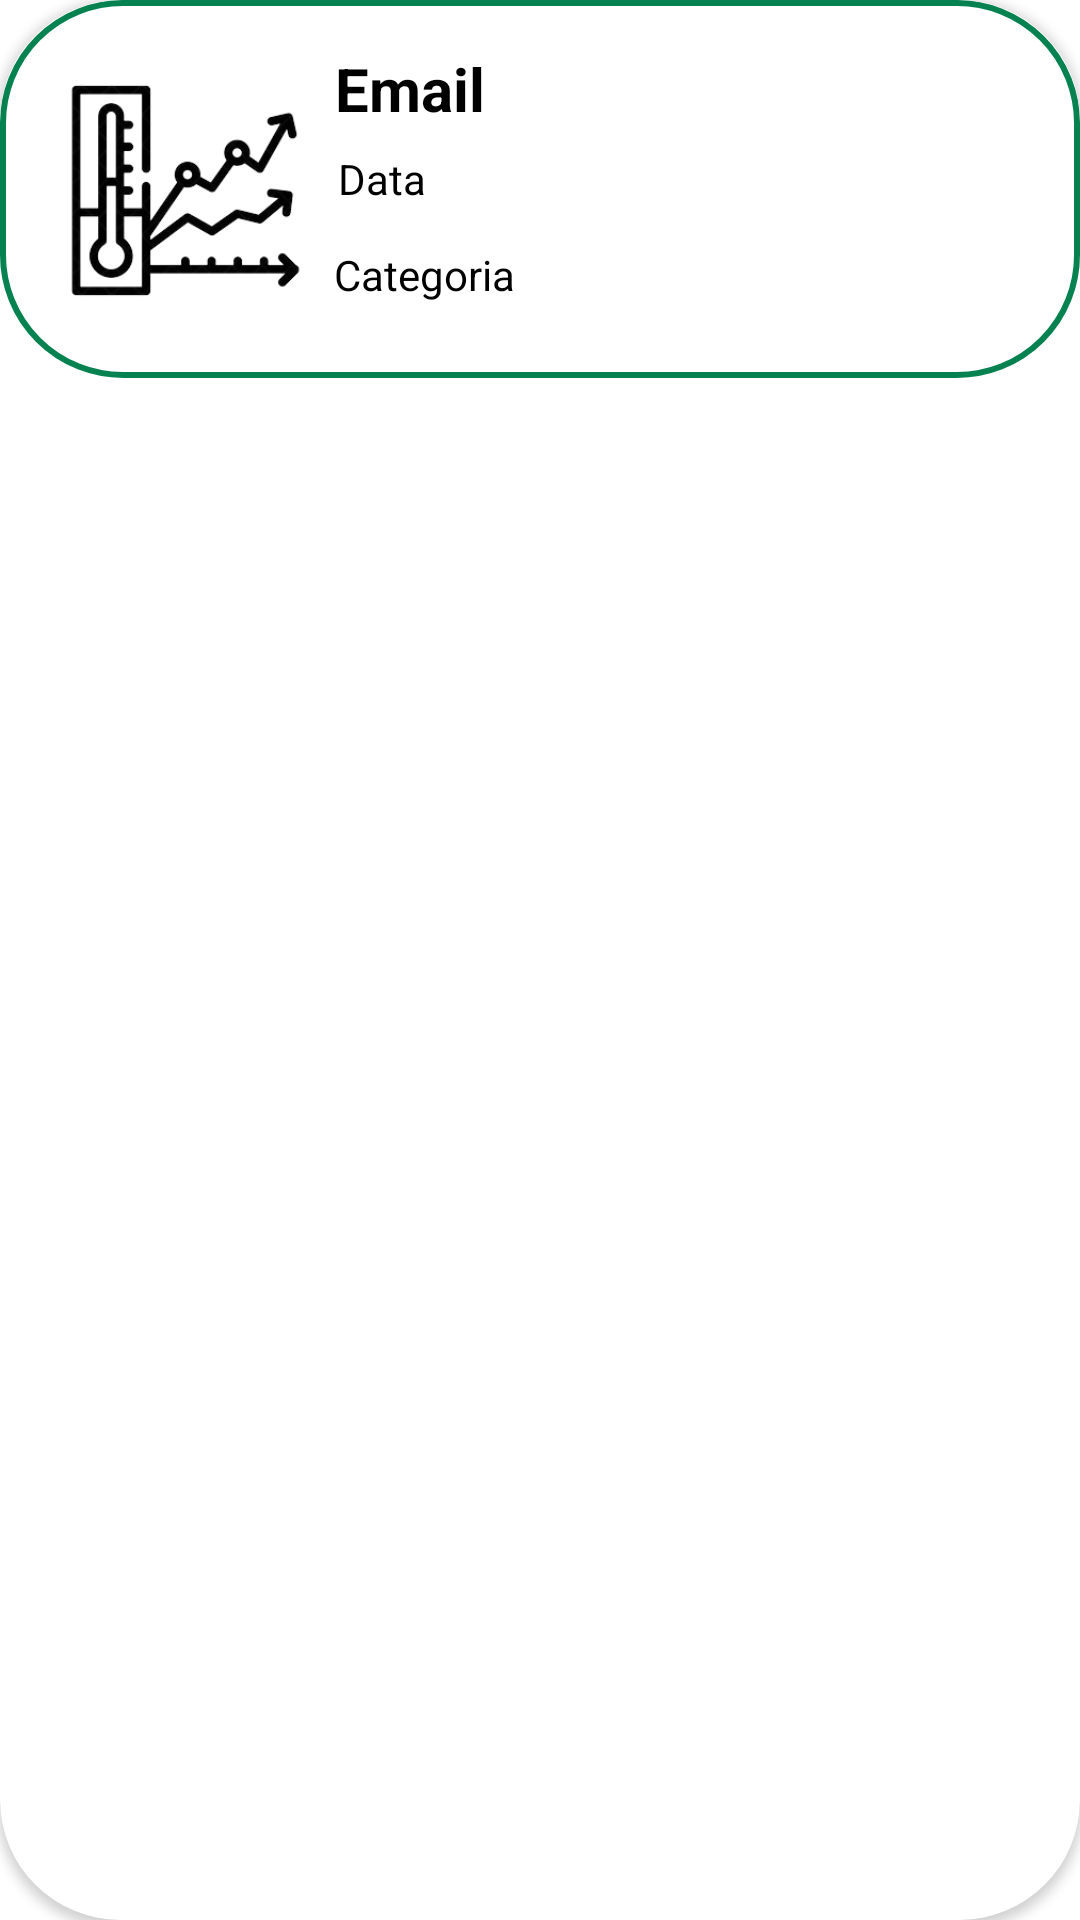

Icons on this 1080px×1920px Android screen, each with the point to tap as point (x, y):
Misurazioni: point (185, 190)
